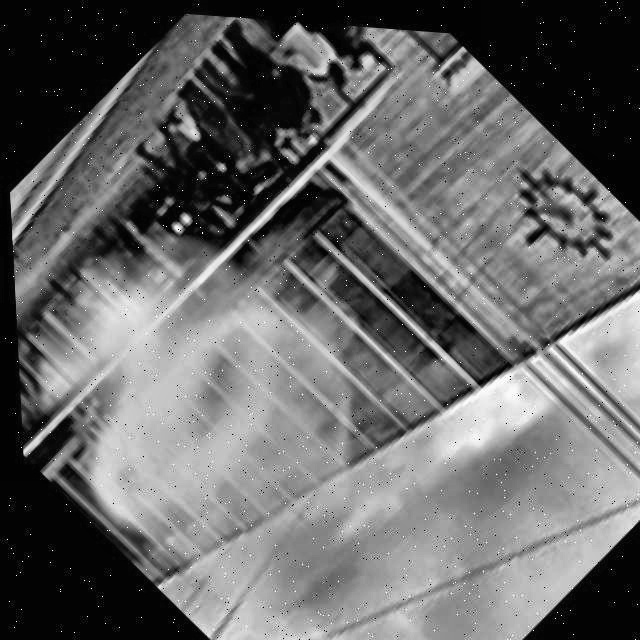Smoke: (13, 97, 544, 640)
